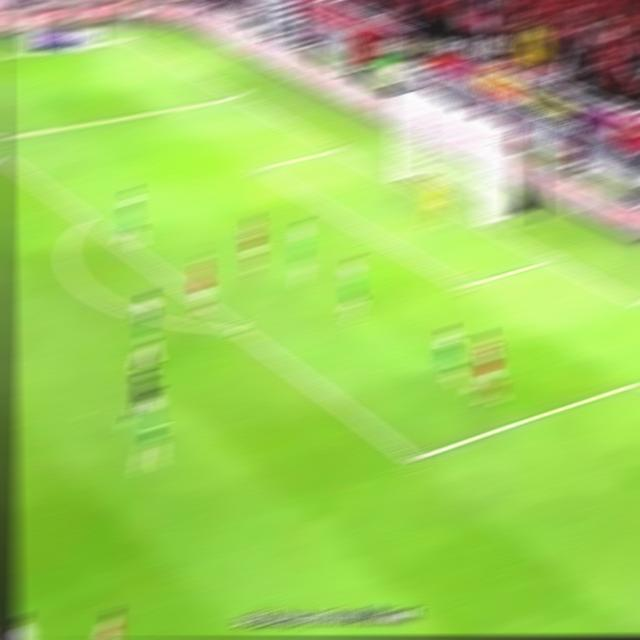bigarea_bottom_inner: (401, 444, 428, 473)
bigarea_top_outter: (229, 91, 250, 103)
bottom_arc_area_intersection: (227, 319, 249, 337)
corner: (119, 36, 142, 43)
smallarea_bottom_inner: (451, 274, 475, 296)
smallarea_bottom_outter: (541, 248, 563, 267)
smallarea_top_inner: (250, 162, 271, 176)
smallarea_top_outter: (327, 141, 348, 155)
top_arc_area_intersection: (77, 212, 98, 226)
